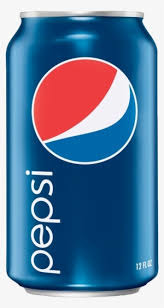pepsi: (5, 9, 160, 295)
